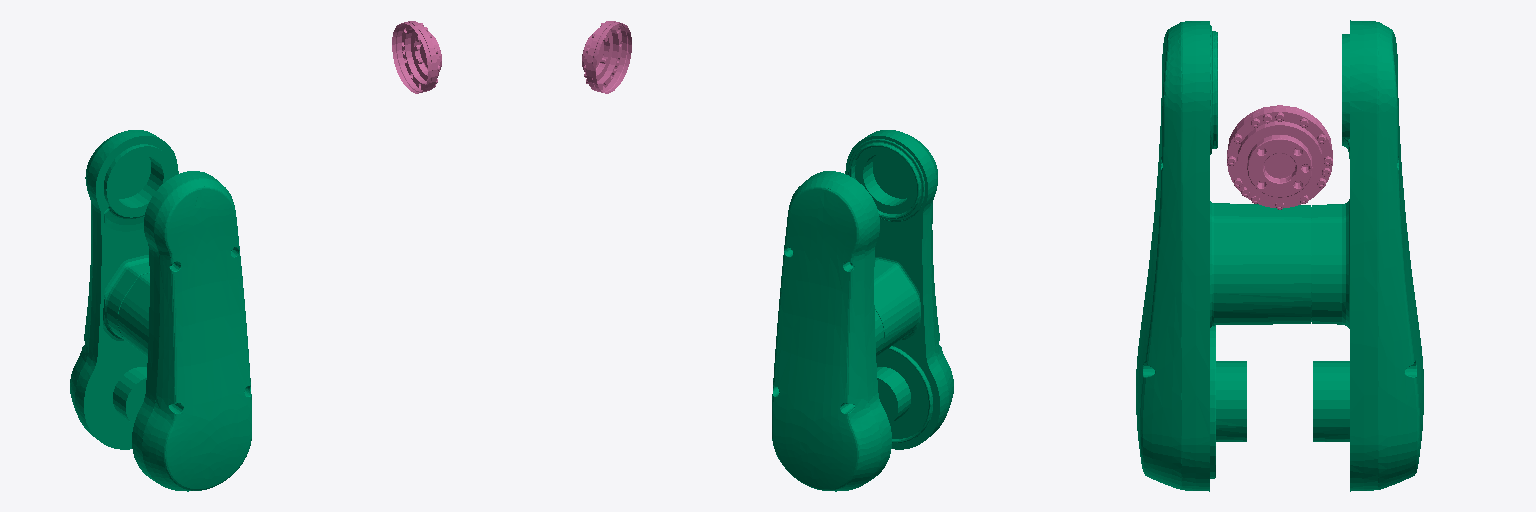
URDF robot description (Denso VP6242):
<?xml version="1.0" ?>
<robot name="Denso VP6242">
  <link name="Denso Base">
    <inertial>
      <mass value="10"/>
      <inertia ixx="1.0" ixy="0.0" ixz="0.0" iyy="1.0" iyz="0.0" izz="1.0"/>
    </inertial>
    <visual>
      <geometry>
        <mesh filename="package://Visual/DensoBase.dae" scale="1.0 1.0 1.0"/>
      </geometry>
      <origin rpy="-1.570796 3.141592 0" xyz="0 0 0"/>
    </visual>
    <collision>
      <geometry>
        <mesh filename="package://Collision/DensoBase.dae" scale="1.0 1.0 1.0"/>
      </geometry>
      <origin rpy="-1.570796 3.141592 0" xyz="0 0 0"/>
    </collision>
    <inertial>
      <origin rpy="0 0 0" xyz="0 0 0"/>
      <mass value="1"/>
      <inertia ixx="1.0" ixy="0.0" ixz="0.0" iyy="1.0" iyz="0.0" izz="1.0"/>
    </inertial>
  </link>
  <link name="Denso Link 1">
    <inertial>
      <mass value="1"/>
      <inertia ixx="1.0" ixy="0.0" ixz="0.0" iyy="1.0" iyz="0.0" izz="1.0"/>
    </inertial>
    <visual>
      <geometry>
        <mesh filename="package://Visual/DensoLink1.dae" scale="1.0 1.0 1.0"/>
      </geometry>
      <origin rpy="-1.570796 3.141592 0" xyz="0 0 0"/>
    </visual>
    <collision>
      <geometry>
        <mesh filename="package://Collision/DensoLink1.dae" scale="1.0 1.0 1.0"/>
      </geometry>
      <origin rpy="-1.570796 3.141592 0" xyz="0 0 0"/>
    </collision>
  </link>
  <link name="Denso Link 2">
    <inertial>
      <mass value="1"/>
      <inertia ixx="1.0" ixy="0.0" ixz="0.0" iyy="1.0" iyz="0.0" izz="1.0"/>
    </inertial>
    <visual>
      <geometry>
        <mesh filename="package://Visual/DensoLink2.dae" scale="1.0 1.0 1.0"/>
      </geometry>
      <origin rpy="-1.570796 3.141592 0" xyz="0 0 0"/>
    </visual>
    <collision>
      <geometry>
        <mesh filename="package://Collision/DensoLink2.dae" scale="1.0 1.0 1.0"/>
      </geometry>
      <origin rpy="-1.570796 3.141592 0" xyz="0 0 0"/>
    </collision>
    <inertial>
      <origin rpy="0 0 0" xyz="0 0 0"/>
      <mass value="1"/>
      <inertia ixx="1.0" ixy="0.0" ixz="0.0" iyy="1.0" iyz="0.0" izz="1.0"/>
    </inertial>
  </link>
  <link name="Denso Link 3">
    <inertial>
      <mass value="1"/>
      <inertia ixx="1.0" ixy="0.0" ixz="0.0" iyy="1.0" iyz="0.0" izz="1.0"/>
    </inertial>
    <visual>
      <geometry>
        <mesh filename="package://Visual/DensoLink3.dae" scale="1.0 1.0 1.0"/>
      </geometry>
      <origin rpy="-1.570796 1.570796 0" xyz="0 0 0"/>
    </visual>
    <collision>
      <geometry>
        <mesh filename="package://Collision/DensoLink3.dae" scale="1.0 1.0 1.0"/>
      </geometry>
      <origin rpy="-1.570796 1.570796 0" xyz="0 0 0"/>
    </collision>
    <inertial>
      <origin rpy="0 0 0" xyz="0 0 0"/>
      <mass value="1"/>
      <inertia ixx="1.0" ixy="0.0" ixz="0.0" iyy="1.0" iyz="0.0" izz="1.0"/>
    </inertial>
  </link>
  <link name="Denso Link 4">
    <inertial>
      <mass value="1"/>
      <inertia ixx="1.0" ixy="0.0" ixz="0.0" iyy="1.0" iyz="0.0" izz="1.0"/>
    </inertial>
    <visual>
      <geometry>
        <mesh filename="package://Visual/DensoLink4.dae" scale="1.0 1.0 1.0"/>
      </geometry>
      <origin rpy="0 1.570796 1.570796" xyz="0 0 0.085"/>
    </visual>
    <collision>
      <geometry>
        <mesh filename="package://Collision/DensoLink4.dae" scale="1.0 1.0 1.0"/>
      </geometry>
      <origin rpy="0 1.570796 1.570796" xyz="0 0 0.085"/>
    </collision>
    <inertial>
      <origin rpy="0 0 0" xyz="0 0 0"/>
      <mass value="1"/>
      <inertia ixx="1.0" ixy="0.0" ixz="0.0" iyy="1.0" iyz="0.0" izz="1.0"/>
    </inertial>
  </link>
  <link name="Denso Link 5">
    <inertial>
      <mass value="1"/>
      <inertia ixx="1.0" ixy="0.0" ixz="0.0" iyy="1.0" iyz="0.0" izz="1.0"/>
    </inertial>
    <visual>
      <geometry>
        <mesh filename="package://Visual/DensoLink5.dae" scale="1.0 1.0 1.0"/>
      </geometry>
      <origin rpy="0 1.570796 1.570796" xyz="0 0 0.0"/>
    </visual>
    <collision>
      <geometry>
        <mesh filename="package://Collision/DensoLink5.dae" scale="1.0 1.0 1.0"/>
      </geometry>
      <origin rpy="0 1.570796 1.570796" xyz="0 0 0.0"/>
    </collision>
    <inertial>
      <origin rpy="0 0 0" xyz="0 0 0"/>
      <mass value="1"/>
      <inertia ixx="1.0" ixy="0.0" ixz="0.0" iyy="1.0" iyz="0.0" izz="1.0"/>
    </inertial>
  </link>
  <link name="Denso Link 6">
    <visual>
      <geometry>
        <mesh filename="package://Visual/DensoEndEffector.dae" scale="1.0 1.0 1.0"/>
      </geometry>
      <origin rpy="0 0 0" xyz="0.0 0.0 -0.005"/>
    </visual>
    <collision>
      <geometry>
        <mesh filename="package://Collision/DensoEndEffector.dae" scale="1.0 1.0 1.0"/>
      </geometry>
      <origin rpy="0 0 0" xyz="0.0 0.0 -0.005"/>
    </collision>
  </link>
  <link name="Denso Tool"/>
  <joint name="Denso Joint 1" type="revolute">
    <origin rpy="0 0 0" xyz="0.0 0.0 0.155"/>
    <parent link="Denso Base"/>
    <child link="Denso Link 1"/>
    <axis xyz="0 0 1"/>
    <limit effort="0" lower="-2.792526803" upper="2.792526803" velocity="1.0"/>
    <dynamics damping="0.7"/>
  </joint>
  <joint name="Denso Joint 2" type="revolute">
    <origin rpy="0 0 0" xyz="0.0 0.0 0.125"/>
    <parent link="Denso Link 1"/>
    <child link="Denso Link 2"/>
    <axis xyz="0 1 0"/>
    <limit effort="0" lower="-2.094395102" upper="2.094395102" velocity="1.0"/>
    <dynamics damping="0.7"/>
  </joint>
  <joint name="Denso Joint 3" type="revolute">
    <origin rpy="0 0 0" xyz="0.0 0.0 0.210"/>
    <parent link="Denso Link 2"/>
    <child link="Denso Link 3"/>
    <axis xyz="0 1 0"/>
    <limit effort="0" lower="0.331612558" upper="2.792526803" velocity="1.0"/>
    <dynamics damping="0.7"/>
  </joint>
  <joint name="Denso Joint 4" type="revolute">
    <origin rpy="0 0 0" xyz="-0.075 0.0 0.0"/>
    <parent link="Denso Link 3"/>
    <child link="Denso Link 4"/>
    <axis xyz="0 0 1"/>
    <limit effort="0" lower="-2.792526803" upper="2.792526803" velocity="1.0"/>
    <dynamics damping="0.7"/>
  </joint>
  <joint name="Denso Joint 5" type="revolute">
    <origin rpy="0 0 0" xyz="0.0 0.0 0.210"/>
    <parent link="Denso Link 4"/>
    <child link="Denso Link 5"/>
    <axis xyz="0 1 0"/>
    <limit effort="0" lower="-2.094395102" upper="2.094395102" velocity="1.0"/>
    <dynamics damping="0.7"/>
  </joint>
  <joint name="Denso Joint 6" type="revolute">
    <origin rpy="0 0 0" xyz="0.0 0.0 0.052875"/>
    <parent link="Denso Link 5"/>
    <child link="Denso Link 6"/>
    <axis xyz="0 0 1"/>
    <limit effort="0" lower="-6.283185307" upper="6.283185307" velocity="1.0"/>
    <dynamics damping="0.7"/>
  </joint>
  <joint name="Denso Joint 6 Tool" type="fixed">
    <parent link="Denso Link 6"/>
    <child link="Denso Tool"/>
    <origin rpy="0 0 0" xyz="0 0 0.005"/>
  </joint>
</robot>

--- Render facts (derived) ---
The picture shows the robot from 3 angles, left to right: view 1: azimuth 30°, elevation 25°; view 2: azimuth 150°, elevation 25°; view 3: azimuth 270°, elevation 25°; orthographic projection.
Model Denso VP6242 with 8 links and 7 joints (6 revolute, 1 fixed), rooted at Denso Base, posed all joints at 0 but 1 set to mid-range because 0 is outside their limits (Denso Joint 3 = 1.56).
Visible links, largest first — view 1: Denso Link 2, Denso Link 6; view 2: Denso Link 2, Denso Link 6; view 3: Denso Link 2, Denso Link 6.
Link boxes in pixels (box(x1,y1,x2,y2)): Denso Link 2: box(70, 130, 251, 491); Denso Link 6: box(392, 21, 441, 93); Denso Link 2: box(772, 130, 953, 491); Denso Link 6: box(582, 21, 631, 93); Denso Link 2: box(1136, 20, 1423, 491); Denso Link 6: box(1227, 105, 1332, 209).
Size in the robot's own frame: 0.3343 by 0.1761 by 0.3747 metres.
Meshes: 7 distinct files referenced, 2 mesh visuals loaded (2 Collada DAE); not drawn: 5 (reference not matched to a file when rendering).